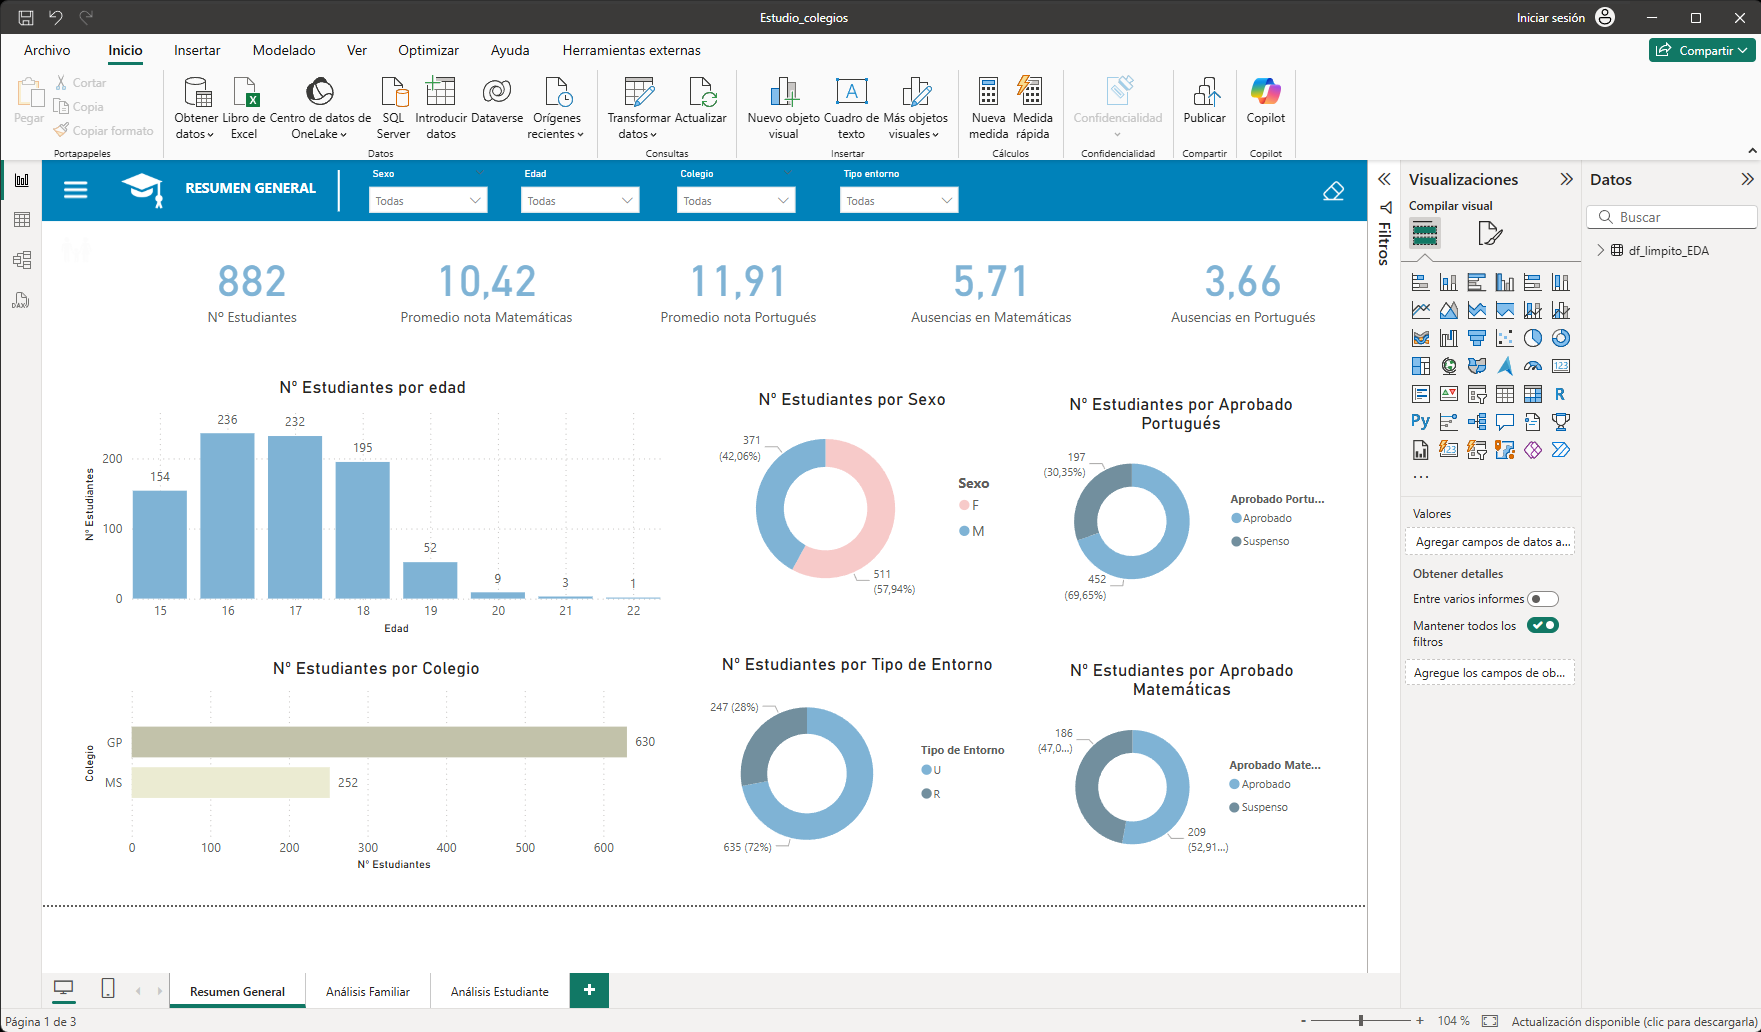

Layout of this report page (visuals, bound fields, positions):
{"tool":"powerbi","page":{"name":"Resumen General","canvas":[1280,720],"ordinal":0},"visuals":[{"type":"shape","box":[0,0,1280.3,59],"z":0,"group":"g2"},{"type":"group","id":"g1","title":"Área Datos","box":[36,65.7,1231.2,626.1],"z":0},{"type":"group","id":"g2","title":"Área Cabecera","box":[0,0,1280.3,176.2],"z":1000},{"type":"clusteredColumnChart","title":"Nº Estudiantes por edad","fields":{"Category":["df_limpito_EDA.age"],"Y":["Count(df_limpito_EDA.student_id)"]},"box":[36.3,208.5,567.1,254.3],"z":1000,"group":"g1"},{"type":"clusteredBarChart","fields":{"Category":["df_limpito_EDA.school"],"Y":["Count(df_limpito_EDA.student_id)"]},"box":[36,480,574.3,211.4],"z":1500,"group":"g1"},{"type":"image","title":"Icono Estudiante","box":[16,125,35,35],"z":2000,"group":"g2"},{"type":"donutChart","fields":{"Category":["df_limpito_EDA.sex"],"Y":["Count(df_limpito_EDA.student_id)"]},"box":[624.6,220.4,317.1,214.3],"z":2000,"group":"g1"},{"type":"image","title":"Icono Familia","box":[13.8,66.2,40,40],"z":3000,"group":"g2"},{"type":"donutChart","fields":{"Category":["df_limpito_EDA.address"],"Y":["Count(df_limpito_EDA.student_id)"]},"box":[624.6,476.1,327.1,214.3],"z":3000,"group":"g1"},{"type":"donutChart","fields":{"Category":["df_limpito_EDA.Por_Status"],"Y":["Count(df_limpito_EDA.student_id)"]},"box":[953.2,224.7,295.7,210],"z":3250,"group":"g1"},{"type":"slicer","title":"Filtro Tipo Entorno","fields":{"Values":["df_limpito_EDA.address"]},"box":[761.4,3,134.3,52.9],"z":3500,"group":"g2"},{"type":"donutChart","fields":{"Category":["df_limpito_EDA.Math_Status"],"Y":["Count(df_limpito_EDA.student_id)"]},"box":[956,481.8,291.4,210],"z":3500,"group":"g1"},{"type":"card","fields":{"Values":["Avg(df_limpito_EDA.absences_math)"]},"box":[810.4,65.7,212.9,110],"z":3750,"group":"g1"},{"type":"card","fields":{"Values":["Avg(df_limpito_EDA.por_score)"]},"box":[566.4,65.7,212.9,110],"z":3875,"group":"g1"},{"type":"card","fields":{"Values":["Count(df_limpito_EDA.student_id)"]},"box":[120,65.7,171.4,110],"z":3906,"group":"g1"},{"type":"card","fields":{"Values":["Avg(df_limpito_EDA.math_score)"]},"box":[322.5,65.7,212.9,110],"z":3937,"group":"g1"},{"type":"slicer","title":"Filtro Colegio","fields":{"Values":["df_limpito_EDA.school"]},"box":[603.4,2.5,133.8,52.5],"z":4000,"group":"g2"},{"type":"card","fields":{"Values":["Avg(df_limpito_EDA.absences_por)"]},"box":[1054.3,65.7,212.9,110],"z":4000,"group":"g1"},{"type":"slicer","title":"Filtro Edad","fields":{"Values":["df_limpito_EDA.age"]},"box":[453.4,3,133.8,52.5],"z":5000,"group":"g2"},{"type":"slicer","title":"Filtro Sexo","fields":{"Values":["df_limpito_EDA.sex"]},"box":[305.9,3,133.8,53],"z":6000,"group":"g2"},{"type":"image","title":"Icono Informe","box":[71.2,5,50,50],"z":7000,"group":"g2"},{"type":"image","title":"Icono Navegador","box":[13,9,40,40],"z":8000,"group":"g2"},{"type":"image","title":"Icono Borrar","box":[1227.5,15,40,30],"z":9500,"group":"g2"},{"type":"shape","box":[257.5,10,57.5,40],"z":10000,"group":"g2"},{"type":"textbox","title":"Título","box":[133.2,12.5,167.5,35],"z":11000,"group":"g2"}]}

Visuals, with their boxes on the page's 1280x720 design canvas (x1, y1, x2, y2). These are canvas units, not pixel positions in the 1761x1032 screenshot, which may show the page scaled, cropped or inside an application window:
shape: box(0, 0, 1280, 59)
"Área Datos" group: box(36, 66, 1267, 692)
"Área Cabecera" group: box(0, 0, 1280, 176)
"Nº Estudiantes por edad" clusteredColumnChart: box(36, 208, 603, 463)
clusteredBarChart - df_limpito_EDA.school x Count(df_limpito_EDA.student_id): box(36, 480, 610, 691)
"Icono Estudiante" image: box(16, 125, 51, 160)
donutChart - df_limpito_EDA.sex x Count(df_limpito_EDA.student_id): box(625, 220, 942, 435)
"Icono Familia" image: box(14, 66, 54, 106)
donutChart - df_limpito_EDA.address x Count(df_limpito_EDA.student_id): box(625, 476, 952, 690)
donutChart - df_limpito_EDA.Por_Status x Count(df_limpito_EDA.student_id): box(953, 225, 1249, 435)
"Filtro Tipo Entorno" slicer: box(761, 3, 896, 56)
donutChart - df_limpito_EDA.Math_Status x Count(df_limpito_EDA.student_id): box(956, 482, 1247, 692)
card - Avg(df_limpito_EDA.absences_math): box(810, 66, 1023, 176)
card - Avg(df_limpito_EDA.por_score): box(566, 66, 779, 176)
card - Count(df_limpito_EDA.student_id): box(120, 66, 291, 176)
card - Avg(df_limpito_EDA.math_score): box(322, 66, 535, 176)
"Filtro Colegio" slicer: box(603, 2, 737, 55)
card - Avg(df_limpito_EDA.absences_por): box(1054, 66, 1267, 176)
"Filtro Edad" slicer: box(453, 3, 587, 56)
"Filtro Sexo" slicer: box(306, 3, 440, 56)
"Icono Informe" image: box(71, 5, 121, 55)
"Icono Navegador" image: box(13, 9, 53, 49)
"Icono Borrar" image: box(1228, 15, 1268, 45)
shape: box(258, 10, 315, 50)
"Título" textbox: box(133, 12, 301, 48)
